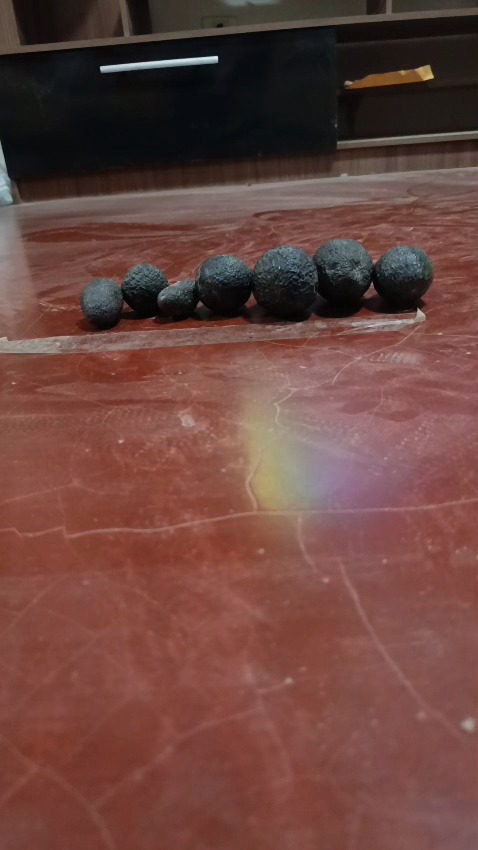Primera: (252, 245, 319, 318), (312, 238, 374, 308)
Segunda: (373, 245, 433, 308), (196, 254, 252, 314), (121, 262, 169, 314)
Tercera: (80, 278, 122, 328), (157, 279, 197, 320)
